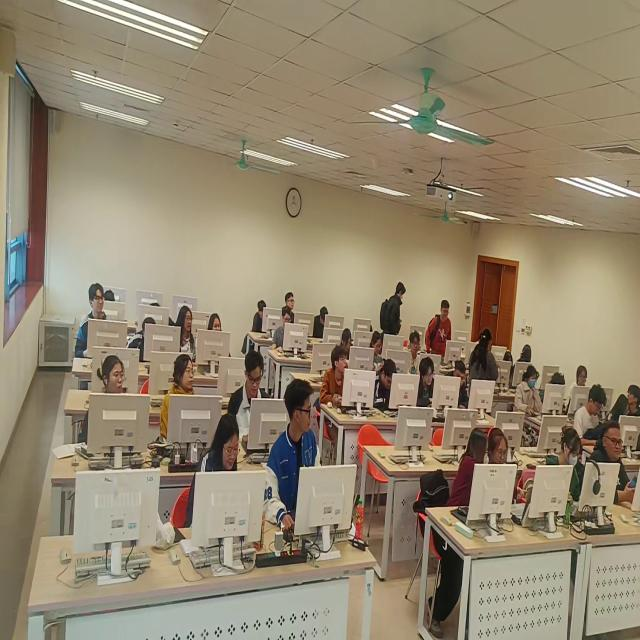raise_head: (81, 356, 130, 445), (593, 418, 636, 504), (159, 354, 197, 448), (76, 280, 106, 362), (322, 344, 350, 405), (176, 303, 197, 359), (571, 360, 589, 416), (409, 328, 421, 377), (208, 310, 224, 345), (285, 286, 301, 311)
stand: (426, 295, 455, 360), (383, 280, 409, 336)
using_computer: (188, 410, 241, 553), (229, 353, 269, 438), (545, 423, 585, 496), (577, 383, 611, 444), (471, 327, 502, 388), (515, 365, 543, 419), (373, 358, 402, 410), (128, 319, 157, 366), (447, 362, 473, 410), (417, 357, 439, 412), (275, 305, 296, 355), (609, 393, 633, 425), (503, 347, 518, 392), (314, 306, 332, 343), (342, 324, 359, 362), (253, 295, 269, 331), (370, 328, 387, 360), (549, 371, 569, 390), (105, 284, 116, 305)
